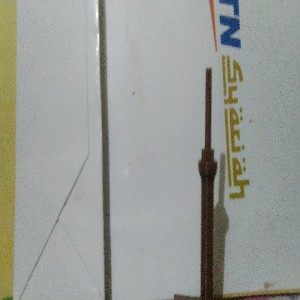obeng: (197, 66, 218, 300)
